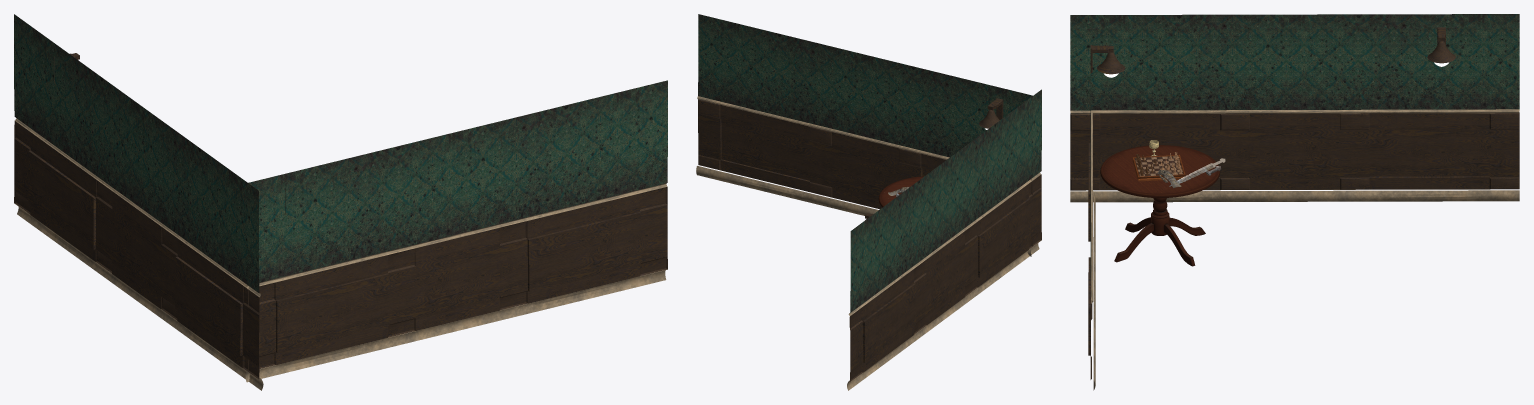
File: medieval.gltf
3 views of the same model, side by side, from view 1: azimuth 30°, elevation 25°; view 2: azimuth 150°, elevation 25°; view 3: azimuth 270°, elevation 25° (orthographic). The views are drawn at different scales.
Visible parts, largest first — view 1: wall1, wall2; view 2: wall1, wall2, round_wooden_table_01, light1; view 3: wall2, round_wooden_table_01, wall1, light1, light3, Black, White.
Boxes of the visible parts, x1,y1,x2,y2 form: wall1: [245, 80, 667, 382]; wall2: [14, 14, 263, 390]; wall1: [696, 14, 1032, 256]; wall2: [847, 89, 1041, 390]; round_wooden_table_01: [878, 176, 923, 207]; light1: [979, 98, 1003, 129]; wall2: [1070, 14, 1519, 202]; round_wooden_table_01: [1100, 145, 1220, 266]; wall1: [1088, 96, 1095, 390]; light1: [1090, 45, 1125, 77]; light3: [1427, 27, 1455, 66]; Black: [1134, 156, 1183, 176]; White: [1135, 156, 1182, 176].
Size of what is drawn, in the model's own units: 13.09 by 6.1 by 12.95.
Materials: 8 (7 with a texture image).
